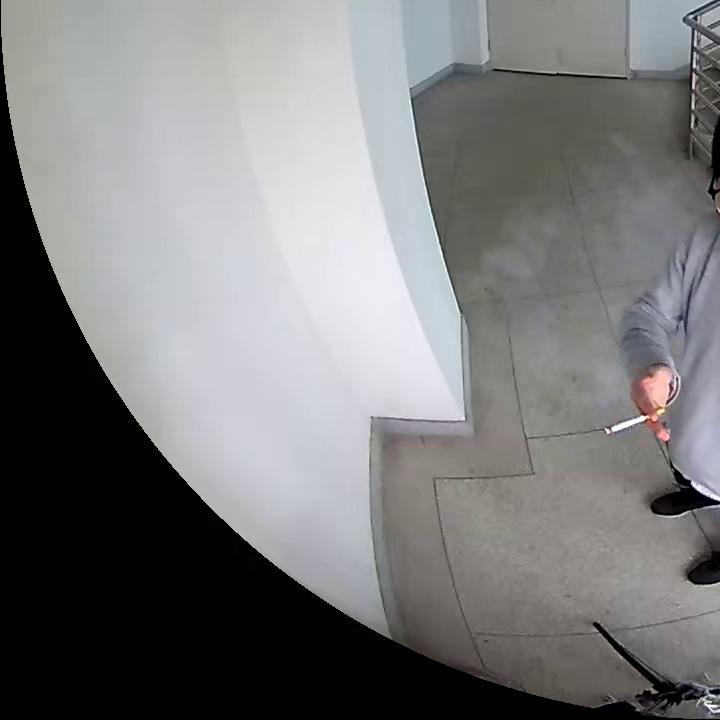handsmoke: (603, 368, 676, 441)
